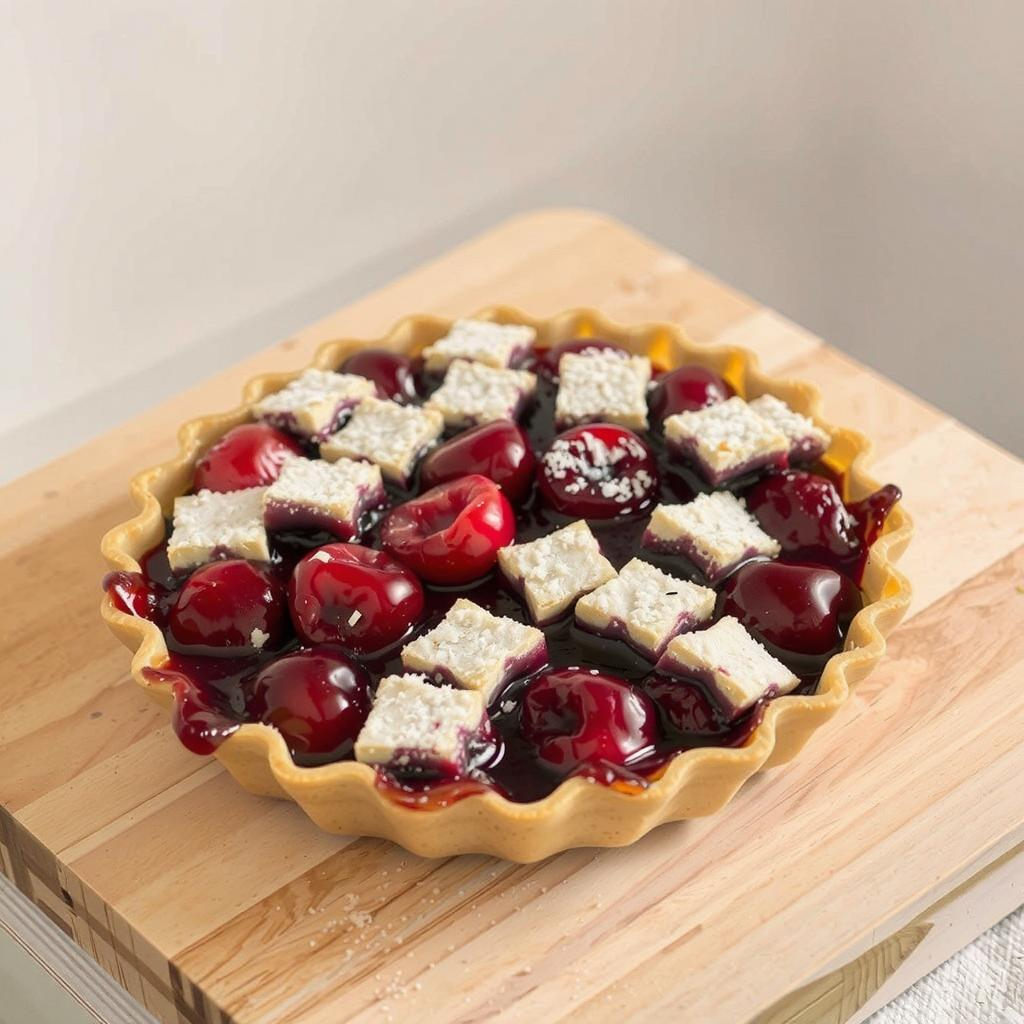pie: (93, 301, 929, 871)
